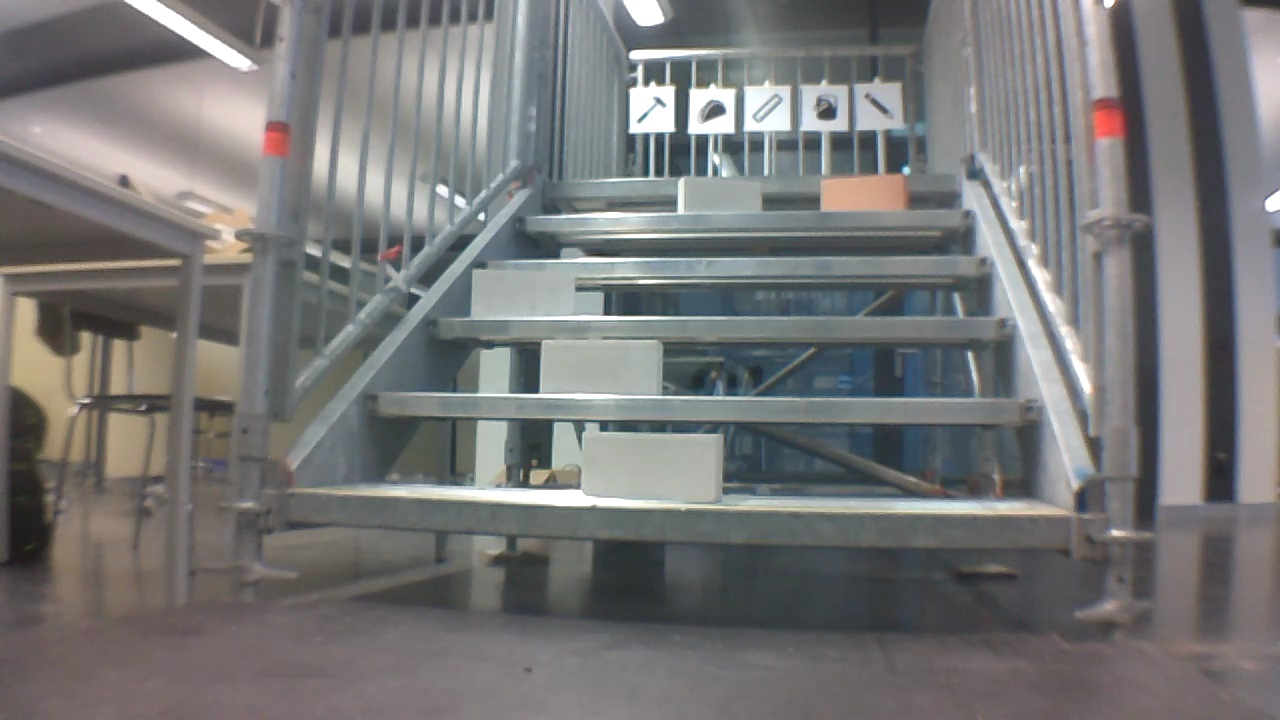brick: (584, 432, 722, 501), (540, 341, 663, 397), (473, 270, 570, 315), (676, 177, 762, 212), (822, 176, 907, 210)
bucket: (811, 90, 846, 124)
edge: (286, 491, 1077, 548), (359, 393, 1041, 422), (426, 317, 1011, 340), (472, 256, 990, 275), (518, 209, 974, 230), (544, 175, 951, 192)
hammer: (631, 90, 669, 129)
pencil: (858, 89, 900, 123)
ruler: (749, 91, 786, 126)
stairs: (234, 2, 1149, 638)
steps: (281, 168, 1079, 565)
taco: (697, 96, 729, 126)
